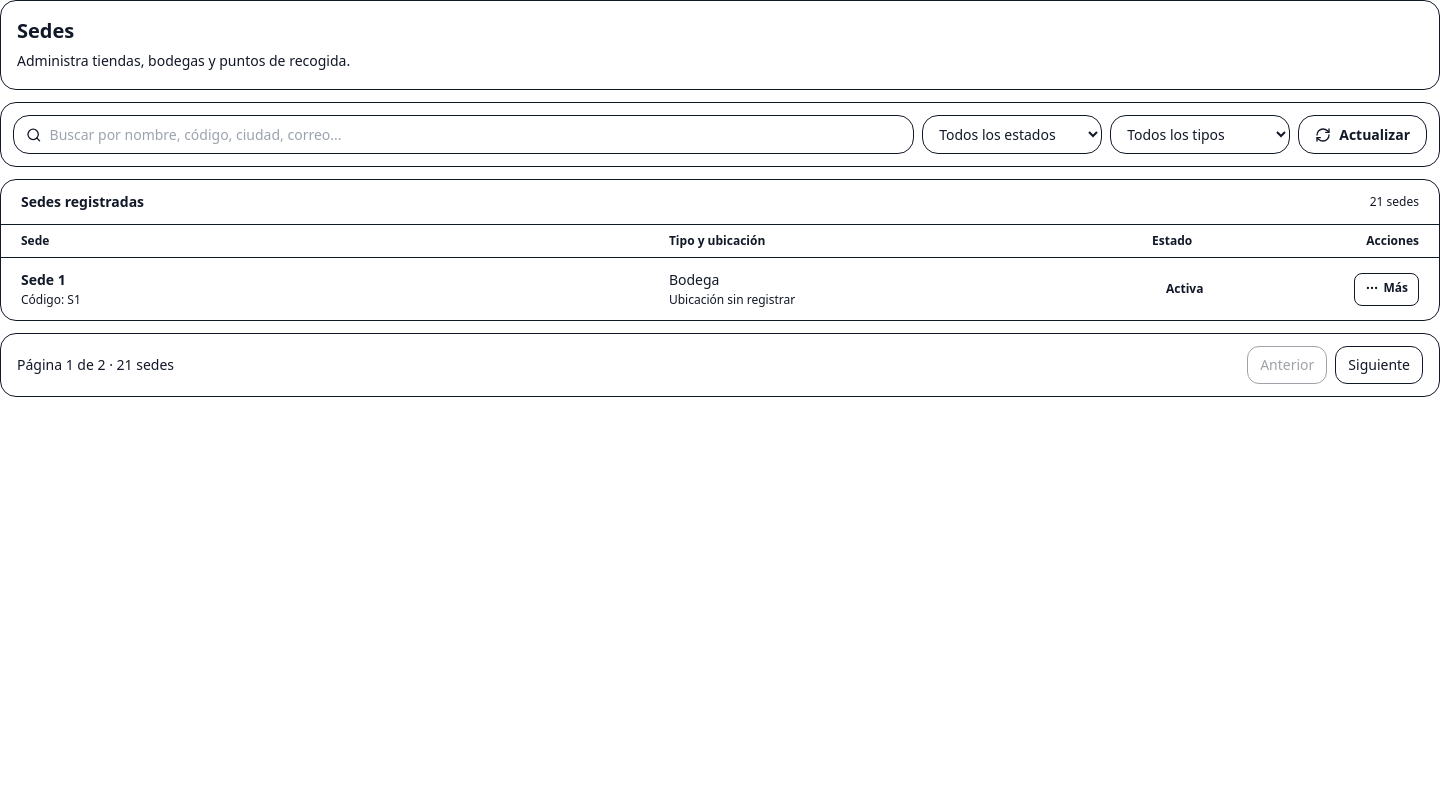
Test case: muestra la causa del bloqueo sin enviar a módulos sin permiso
What coordinates should you click on to do the following:
click the button with aria-label "Opciones de Sede 1"
I would click on:
 (1387, 289)
Its box is [1354,272,1419,306].
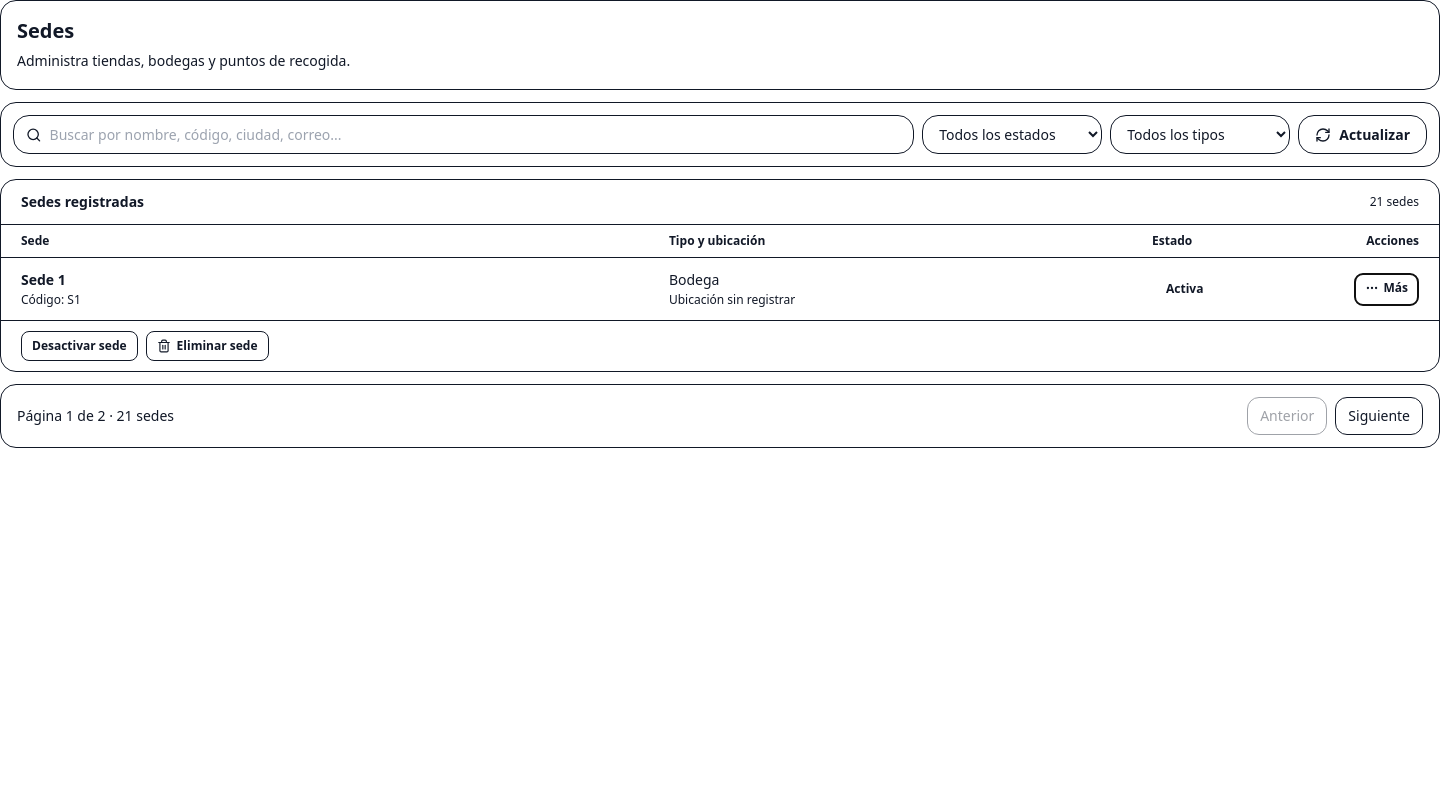
What coordinates should you click on to do the following:
click the button with aria-label "Desactivar Sede 1"
I would click on:
 (79, 346)
Its box is [21,331,138,361].
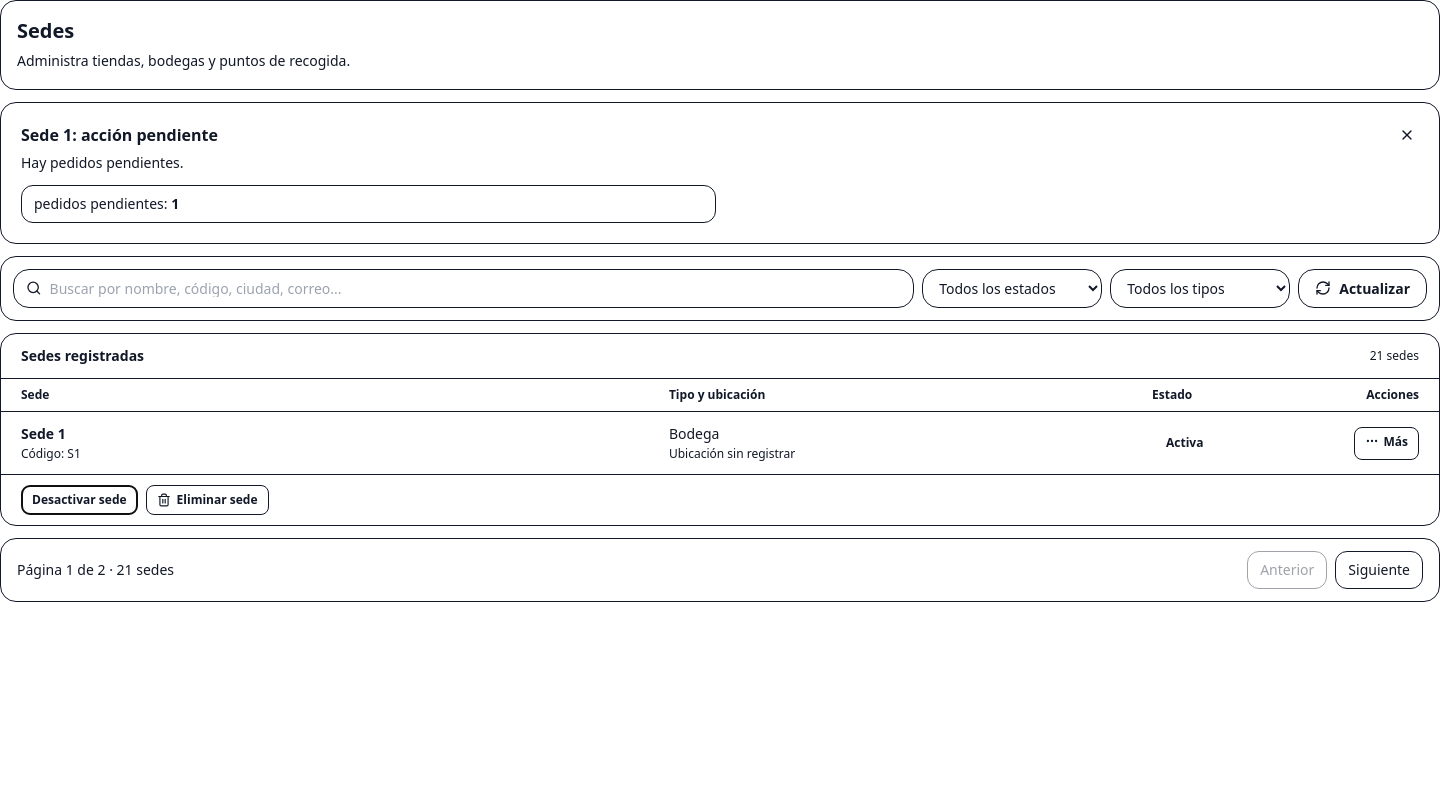
Expected: the message named "Sede con pendientes" shows "pedidos pendientes: 1", [0,102,1439,244]
